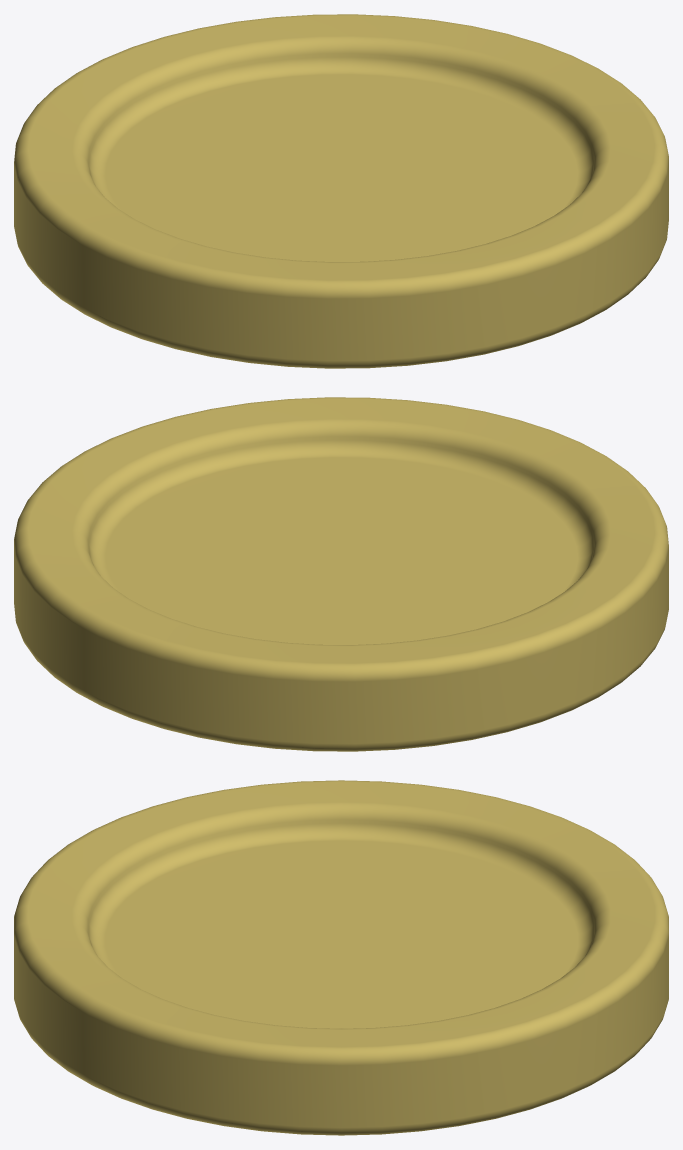
Rendered from золотая монета.fbx.
3 views of the same model, one above another, from view 1: azimuth 30°, elevation 25°; view 2: azimuth 150°, elevation 25°; view 3: azimuth 270°, elevation 25° (orthographic).
Parts seen in each view (by area): view 1: pCylinder7; view 2: pCylinder7; view 3: pCylinder7.
Boxes of the visible parts, x1,y1,x2,y2 form: pCylinder7: (14, 14, 668, 368); pCylinder7: (14, 397, 668, 751); pCylinder7: (14, 780, 668, 1135).
Bounding box in the file's own units: 19.72 × 2.88 × 19.68.
